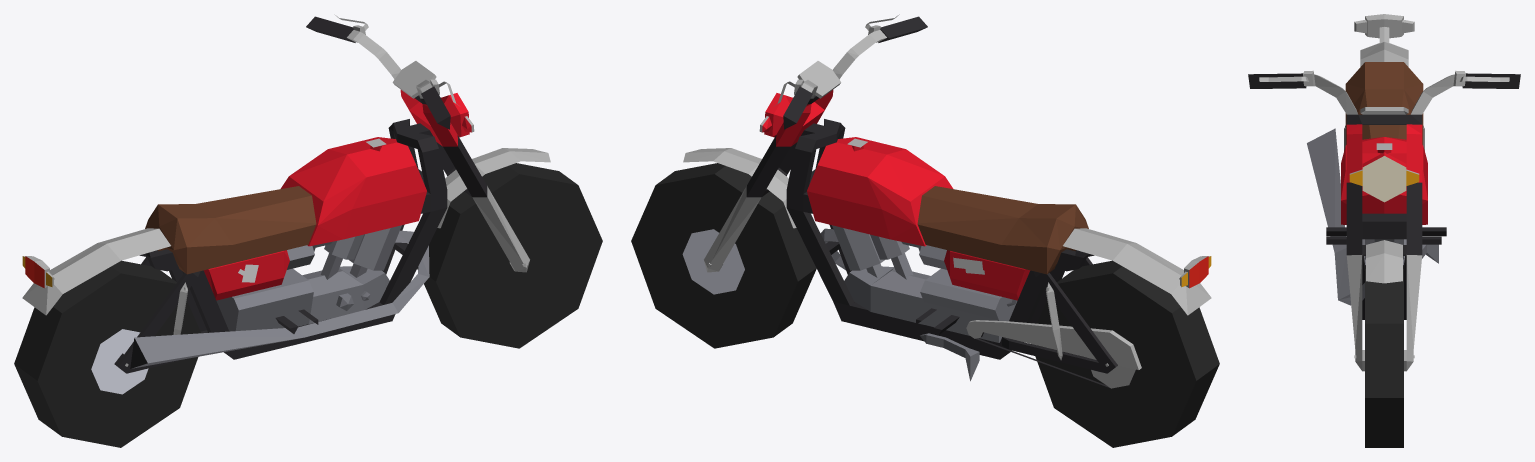
File: VivBike64.fbx
3 renders of one model, left to right at view 1: azimuth 30°, elevation 25°; view 2: azimuth 150°, elevation 25°; view 3: azimuth 270°, elevation 25°, orthographic.
Parts seen in each view (by area): view 1: Internals, WheelF, WheelF.002, Fork; view 2: Internals, WheelF, WheelF.002, Fork, Chain, Stand; view 3: Fork, Internals, WheelF.
Boxes of the visible parts, x1,y1,x2,y2 form: Internals: [22, 119, 447, 373]; WheelF: [417, 163, 602, 348]; WheelF.002: [14, 260, 200, 447]; Fork: [306, 14, 550, 272]; Internals: [786, 119, 1211, 373]; WheelF: [631, 163, 816, 348]; WheelF.002: [1031, 260, 1219, 447]; Fork: [683, 14, 927, 272]; Chain: [966, 320, 1141, 388]; Stand: [920, 333, 979, 381]; Fork: [1248, 70, 1520, 371]; Internals: [1307, 14, 1446, 319]; WheelF: [1365, 266, 1403, 447].
Bounding box in the file's own units: 680 × 362 × 282.
